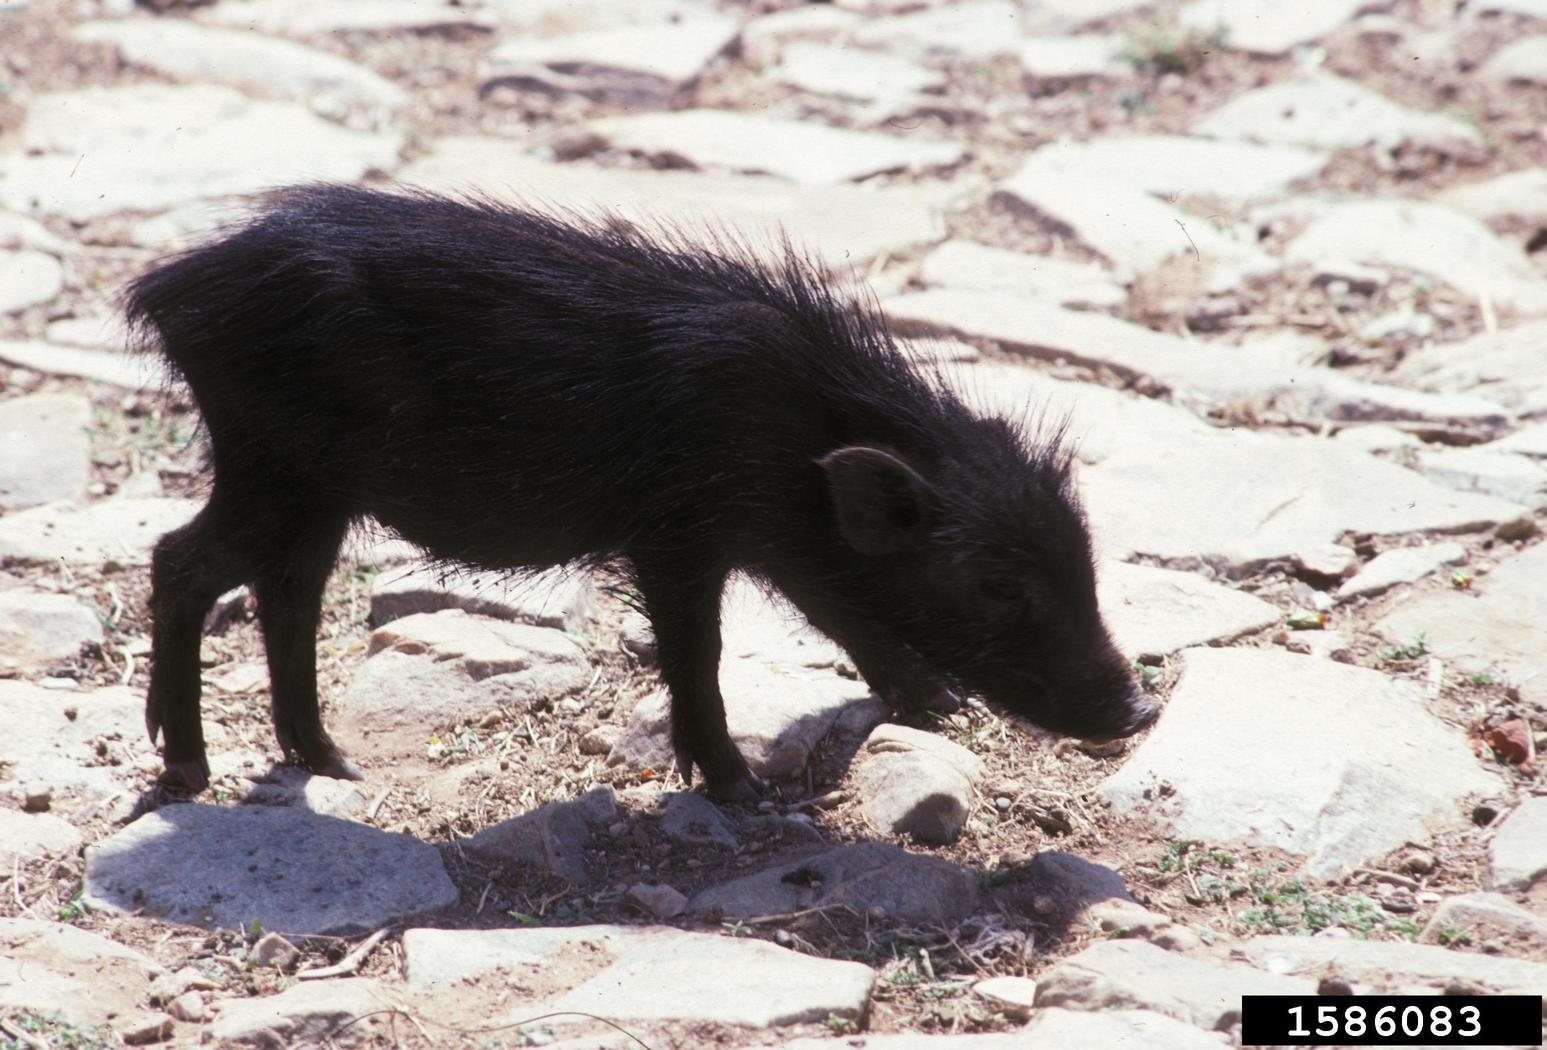wild boar: (103, 172, 1209, 843)
